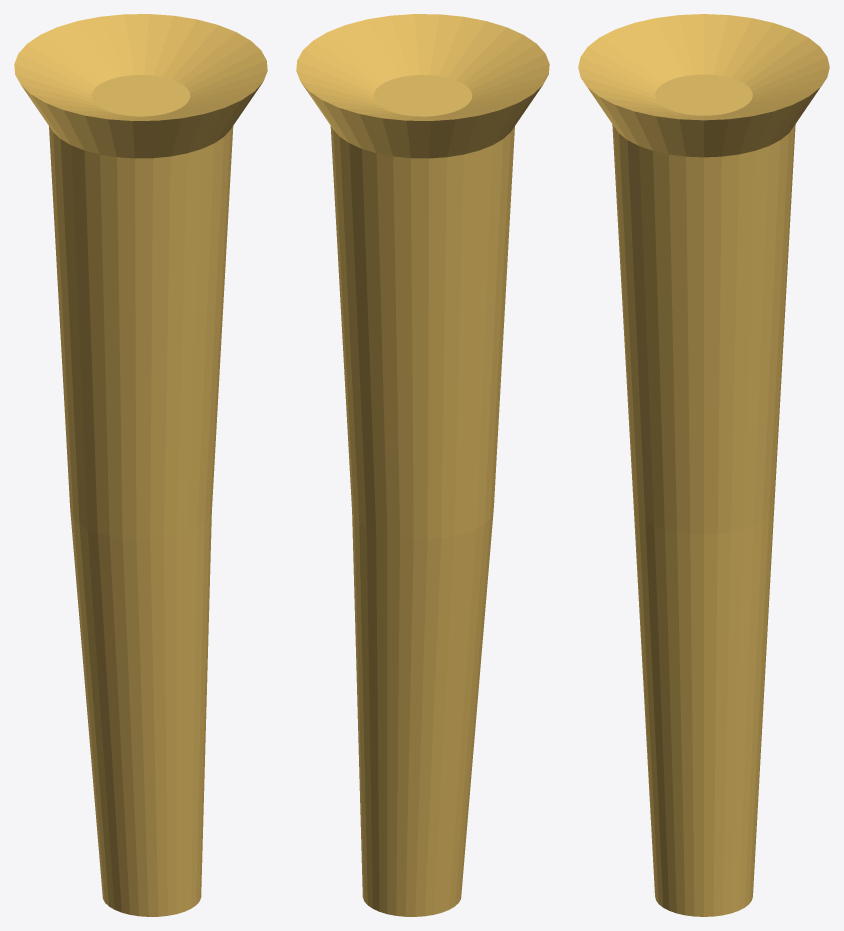
The model's file is torch.fbx.
3 views of the same model, side by side, from view 1: azimuth 30°, elevation 25°; view 2: azimuth 150°, elevation 25°; view 3: azimuth 270°, elevation 25° (orthographic).
Parts seen in each view (by area): view 1: Cube; view 2: Cube; view 3: Cube.
Part boxes in pixels (bbox=[...]): Cube: bbox=[14, 14, 267, 916]; Cube: bbox=[296, 14, 549, 916]; Cube: bbox=[578, 14, 829, 916].
Bounding box in the file's own units: 274 × 996 × 274.
